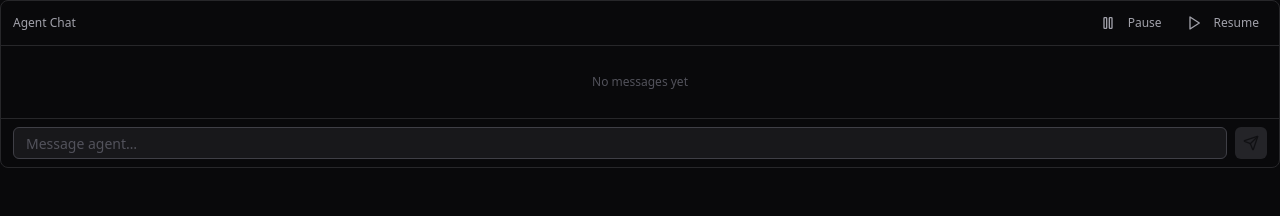
Test case: AgentChat – optimistic UI › after successful send assistant reply appears
The width and height of the screenshot is (1280, 216).
Type "my question" into the field with placeholder "Message agent…" at (620, 143), box [13,127,1227,159]
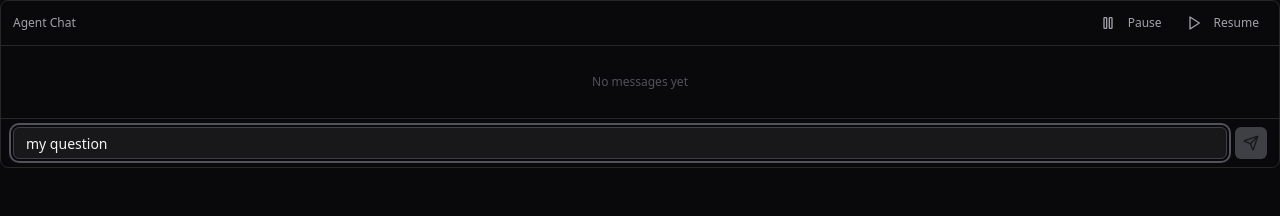
Click the button named "send message" at (1251, 143), box [1235,127,1267,159]
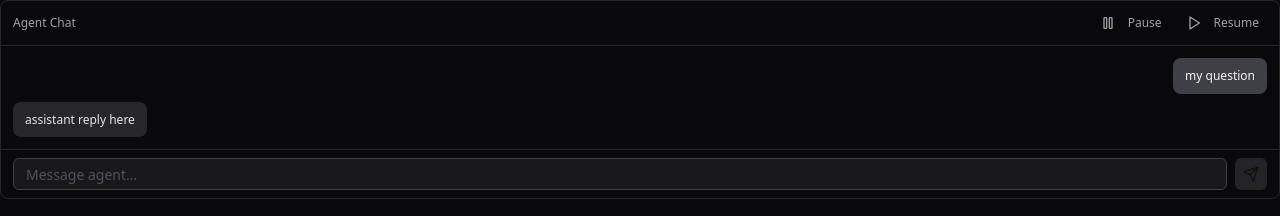
Now the text "assistant reply here" is shown, box [13,102,147,137]
